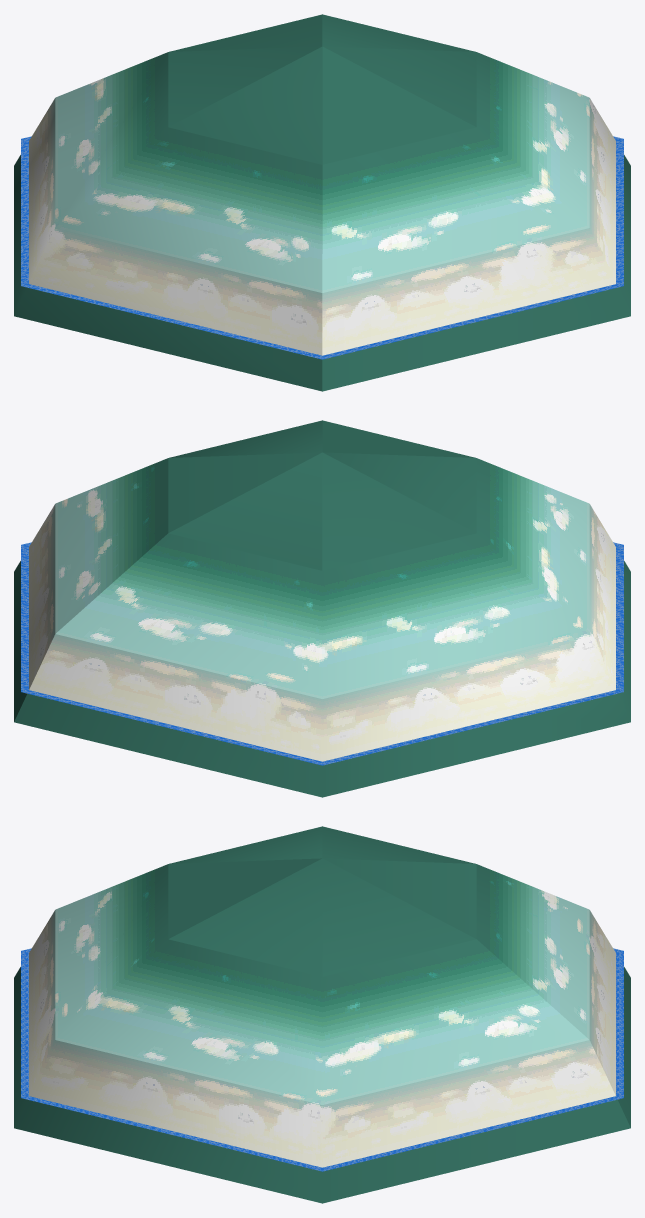
File: MushBridge.glb
3 renders of one model, top to bottom at view 1: azimuth 30°, elevation 25°; view 2: azimuth 150°, elevation 25°; view 3: azimuth 270°, elevation 25°, orthographic.
Parts seen in each view (by area): view 1: MushBridge; view 2: MushBridge; view 3: MushBridge.
Boxes of the visible parts, box(x1,y1,x2,y2) form: MushBridge: box(14, 14, 630, 391); MushBridge: box(14, 420, 630, 797); MushBridge: box(14, 826, 630, 1203).
Bounding box in the file's own units: 1515 × 457 × 1312.
15 materials, 15 textured.
